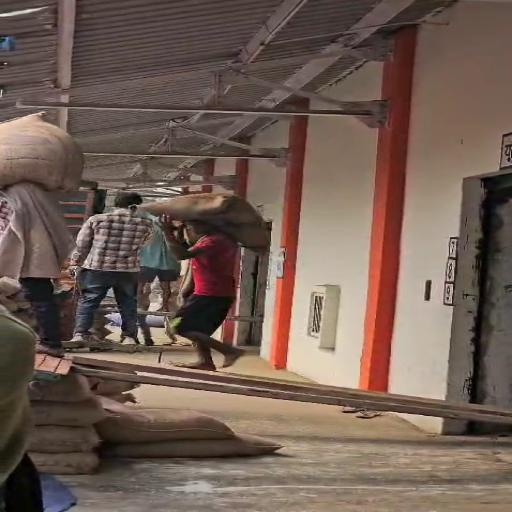bag: (134, 188, 287, 252), (2, 112, 108, 192)
